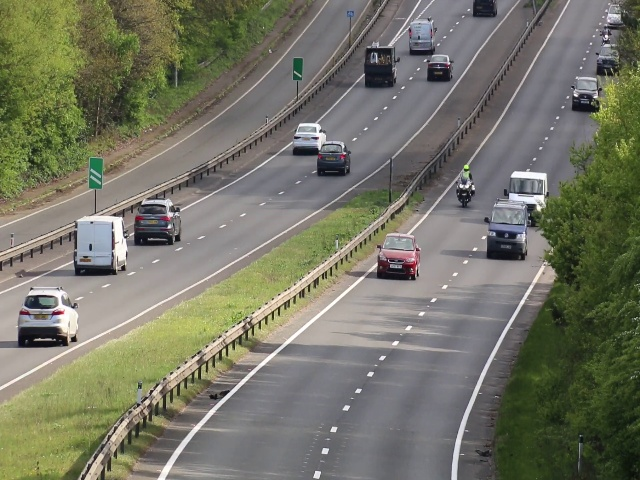car: (14, 290, 81, 346), (74, 215, 128, 275), (486, 201, 527, 262), (134, 198, 184, 245), (376, 232, 417, 280), (364, 46, 398, 89), (316, 141, 353, 177), (571, 75, 599, 112), (406, 20, 437, 53), (290, 123, 317, 155), (508, 173, 548, 194), (426, 52, 453, 79)
